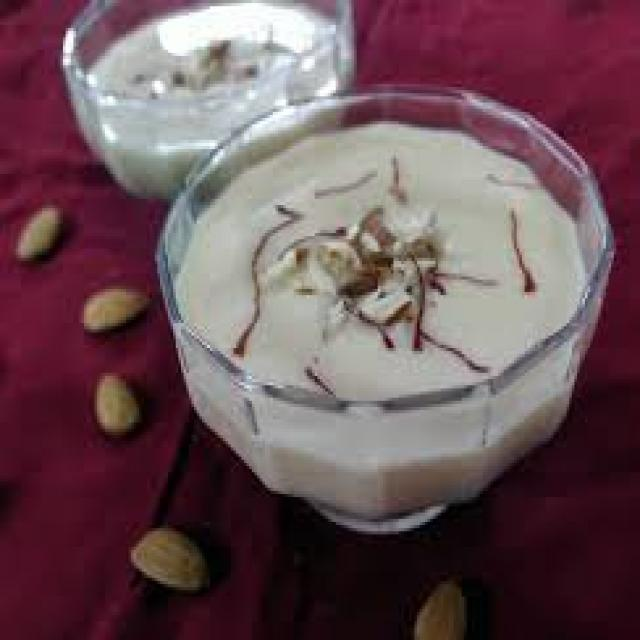Kheer: (190, 125, 584, 414), (95, 1, 352, 133)
